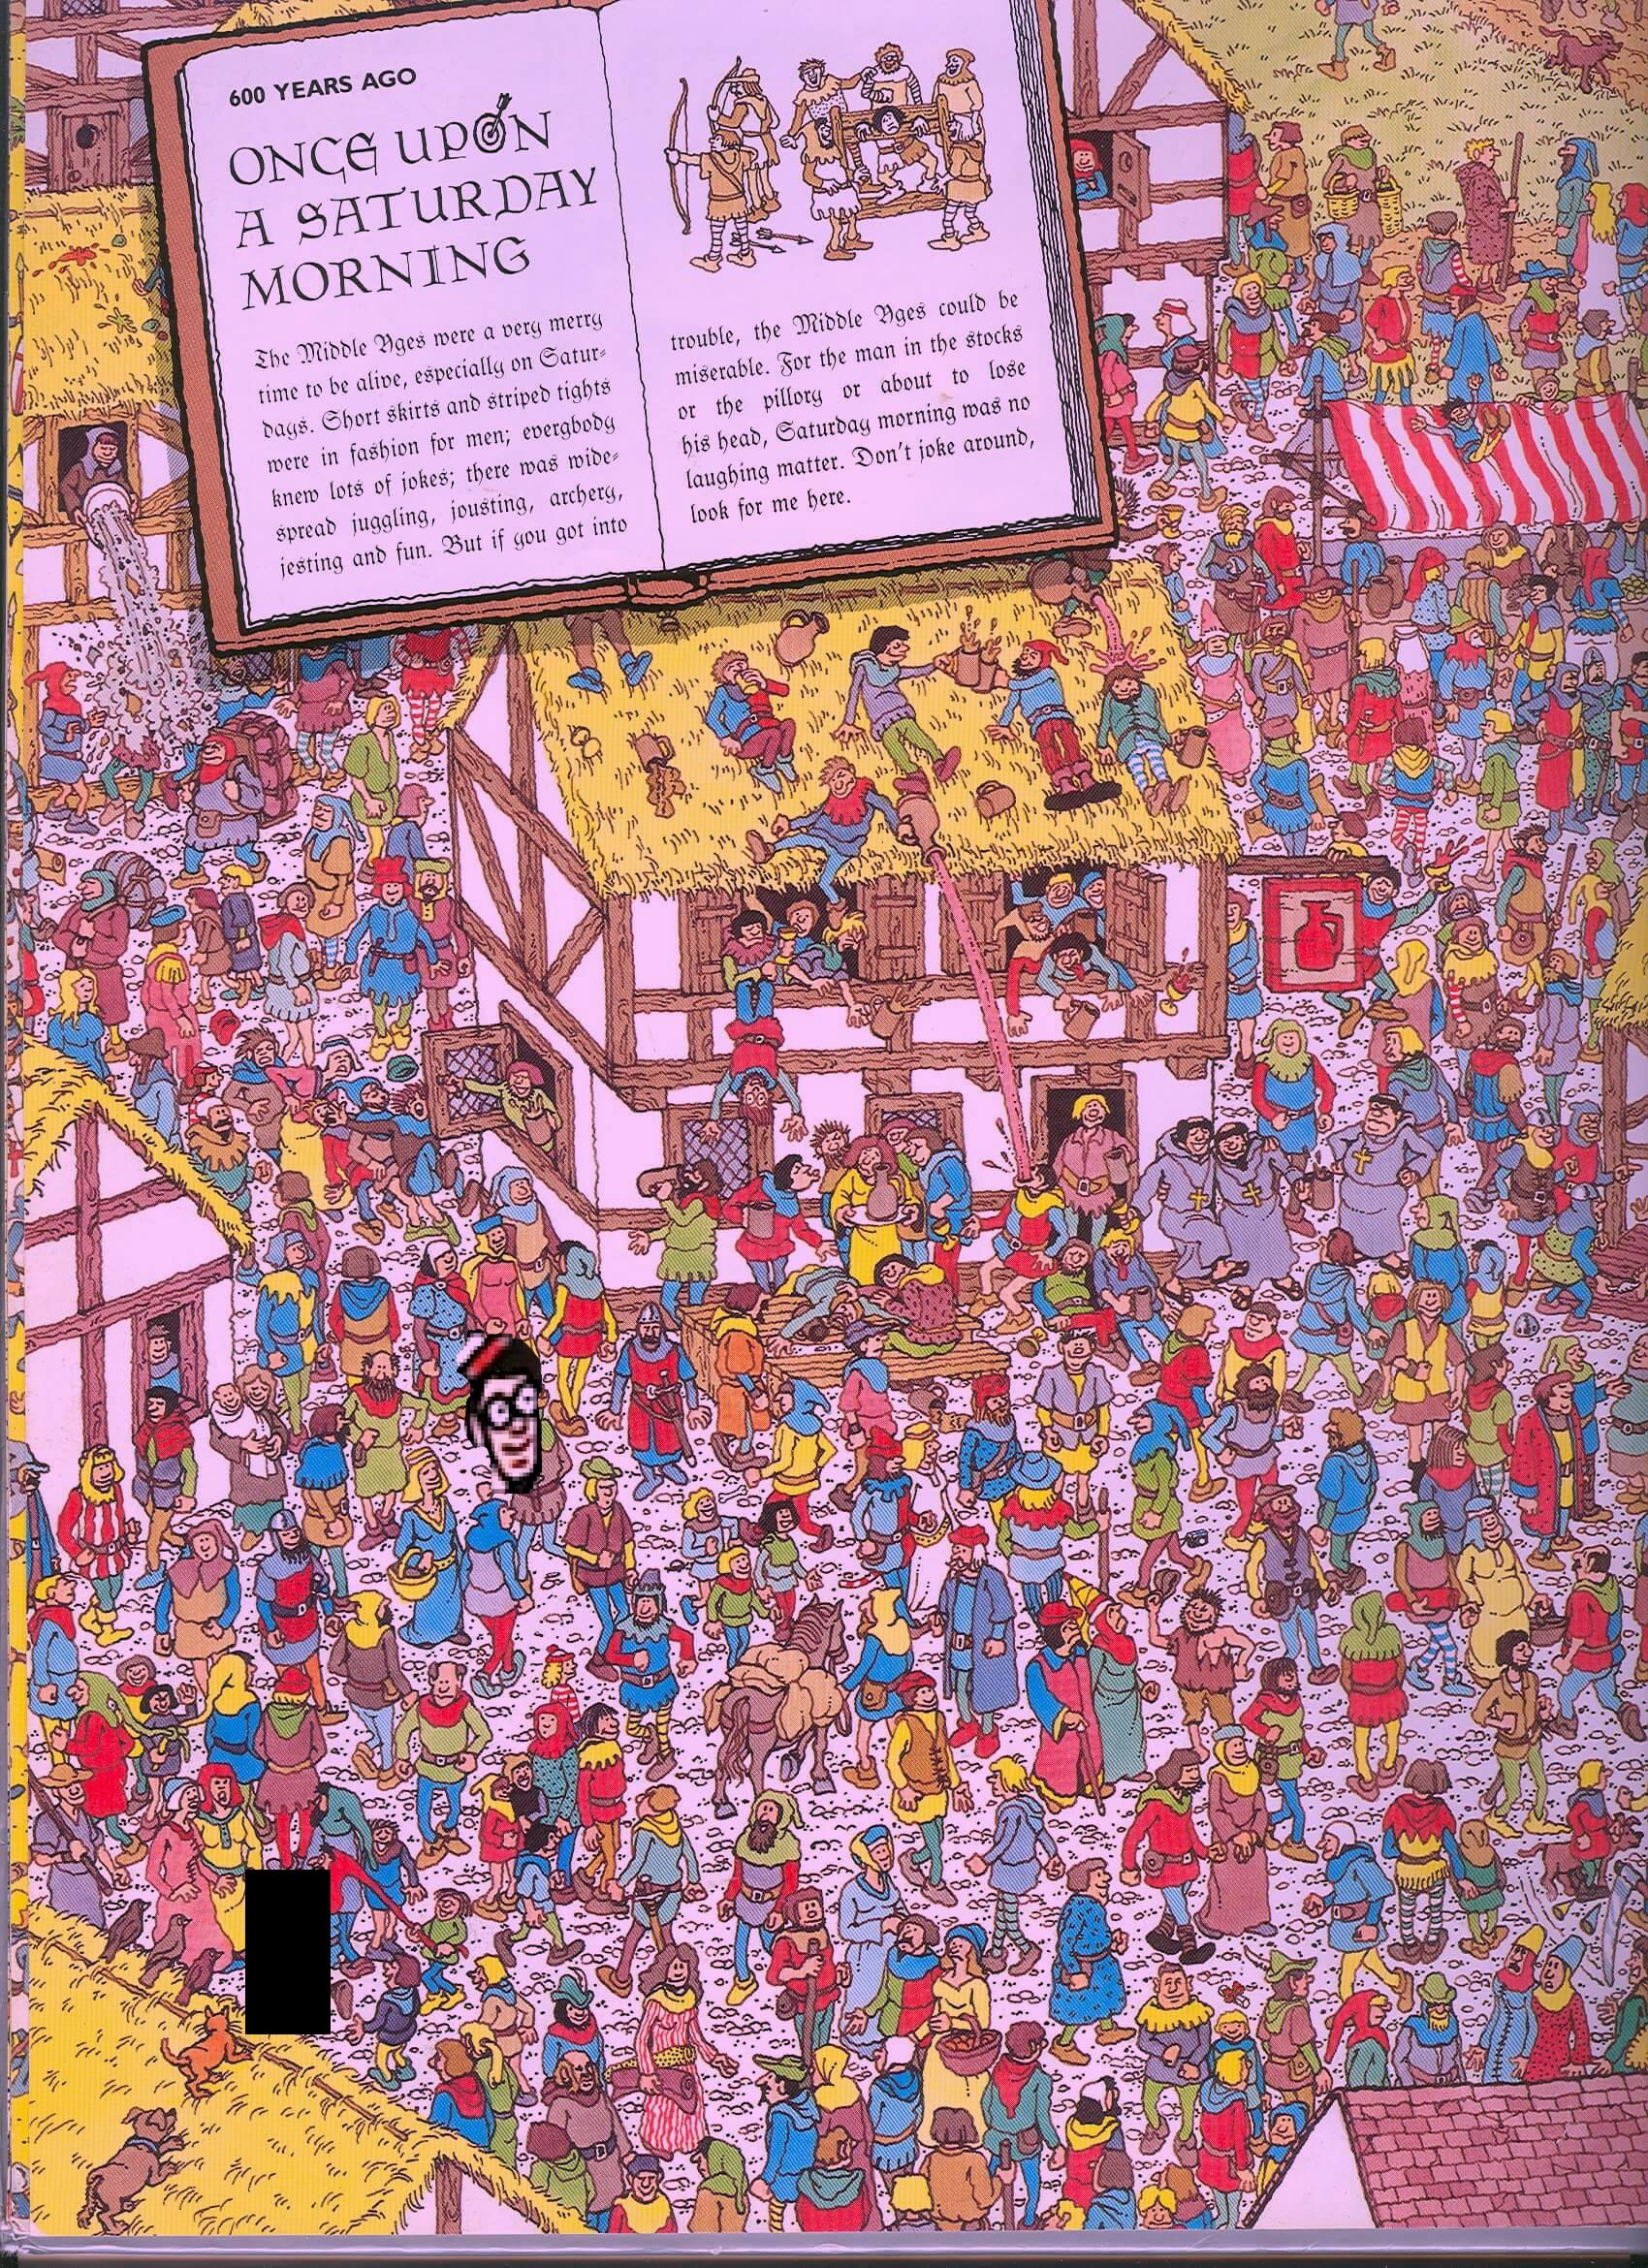waldos: (456, 1329, 542, 1493)
